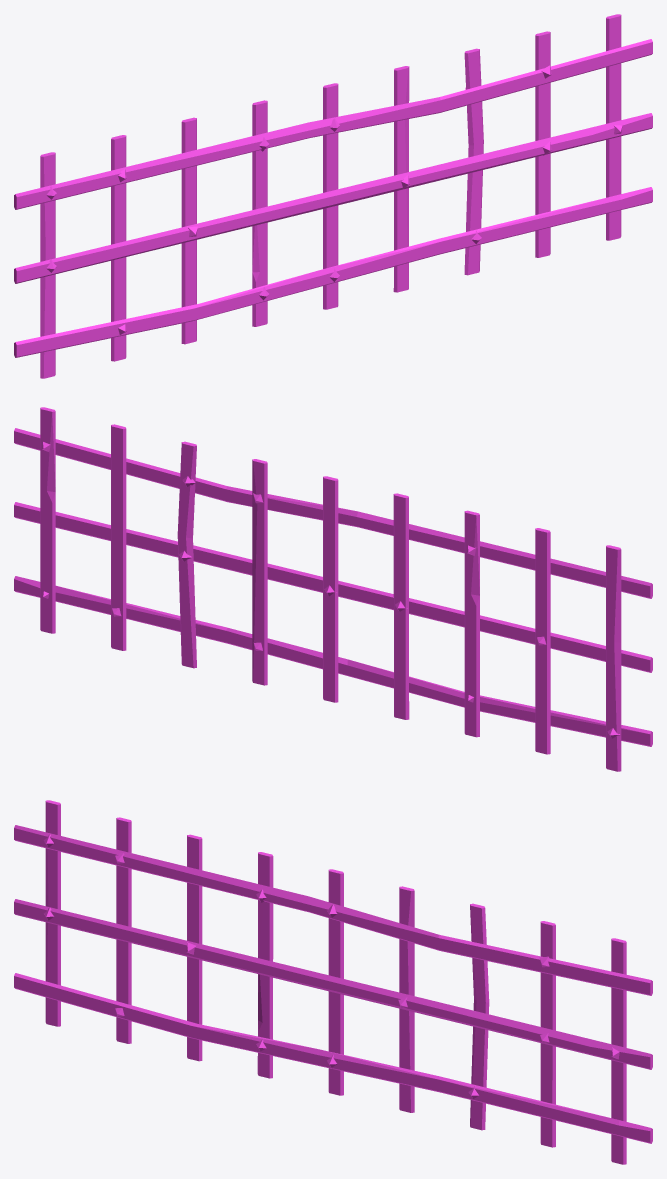
The model's file is SM_Wall_Bars_3x1m_Fantasy.fbx.
3 views of the same model, one above another, from view 1: azimuth 30°, elevation 25°; view 2: azimuth 150°, elevation 25°; view 3: azimuth 330°, elevation 25° (orthographic).
Parts seen in each view (by area): view 1: SM_Wall_Bars_3x1m_Fantasy; view 2: SM_Wall_Bars_3x1m_Fantasy; view 3: SM_Wall_Bars_3x1m_Fantasy.
Boxes of the visible parts, x1=… form: SM_Wall_Bars_3x1m_Fantasy: x1=14, y1=14, x2=652, y2=378; SM_Wall_Bars_3x1m_Fantasy: x1=14, y1=407, x2=652, y2=771; SM_Wall_Bars_3x1m_Fantasy: x1=14, y1=800, x2=652, y2=1164.
Size of the model in its own units: 3 by 1 by 0.0888.
